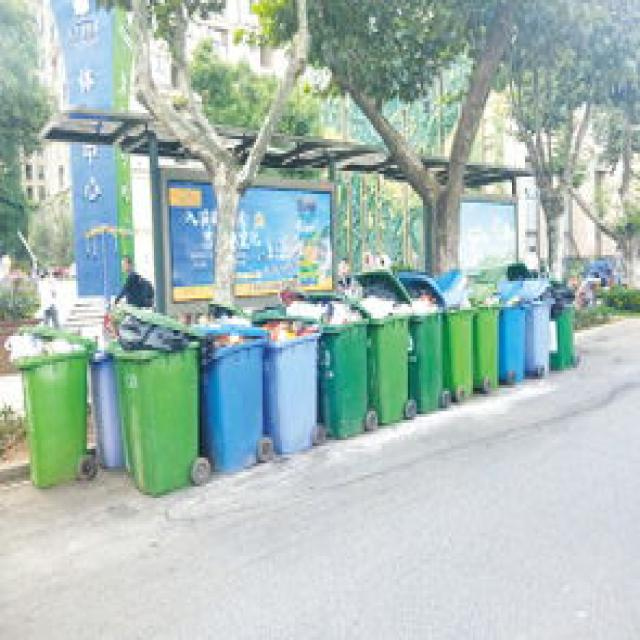overflow: (110, 301, 202, 495), (2, 322, 91, 489), (193, 318, 263, 475), (258, 307, 321, 455), (319, 290, 369, 434), (365, 290, 412, 422), (406, 290, 444, 411), (545, 278, 577, 368), (447, 289, 473, 396), (523, 275, 551, 371), (499, 281, 525, 382), (475, 290, 499, 388)
